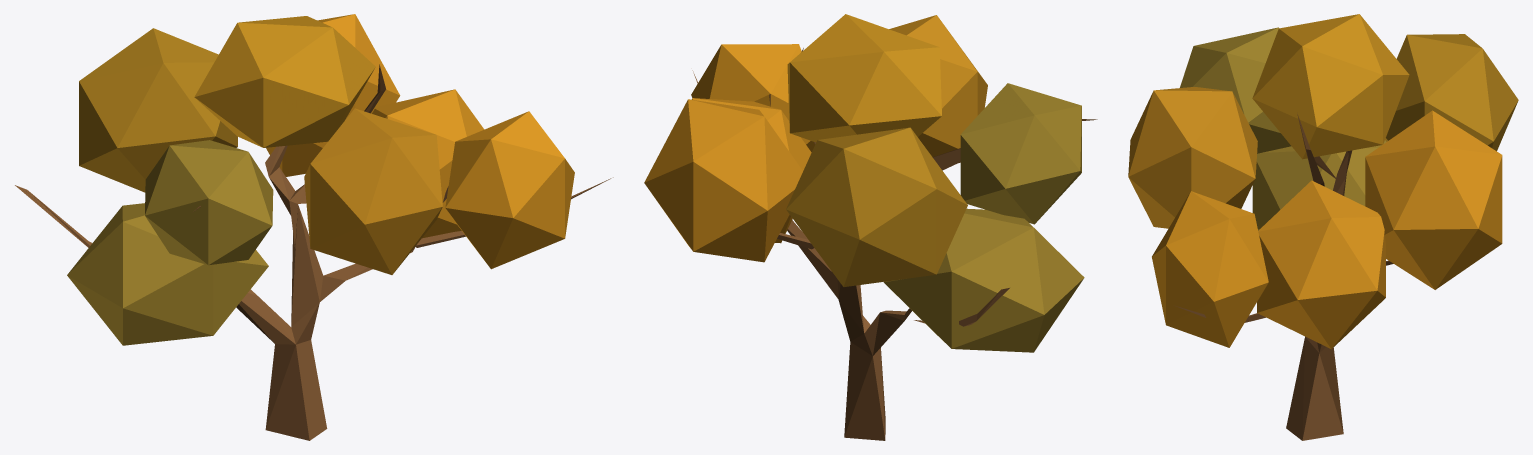
Rendered from elm_1_autumn_far.glb.
3 views of the same model, side by side, from view 1: azimuth 30°, elevation 25°; view 2: azimuth 150°, elevation 25°; view 3: azimuth 270°, elevation 25° (orthographic).
Parts seen in each view (by area): view 1: elm_1_autumn_far; view 2: elm_1_autumn_far; view 3: elm_1_autumn_far.
Part boxes in pixels (left/top/right/bottom): elm_1_autumn_far: left=15, top=14, right=613, bottom=440; elm_1_autumn_far: left=644, top=14, right=1097, bottom=440; elm_1_autumn_far: left=1128, top=14, right=1518, bottom=440.
Size of the model in its own units: 7.53 by 6.27 by 5.59.
